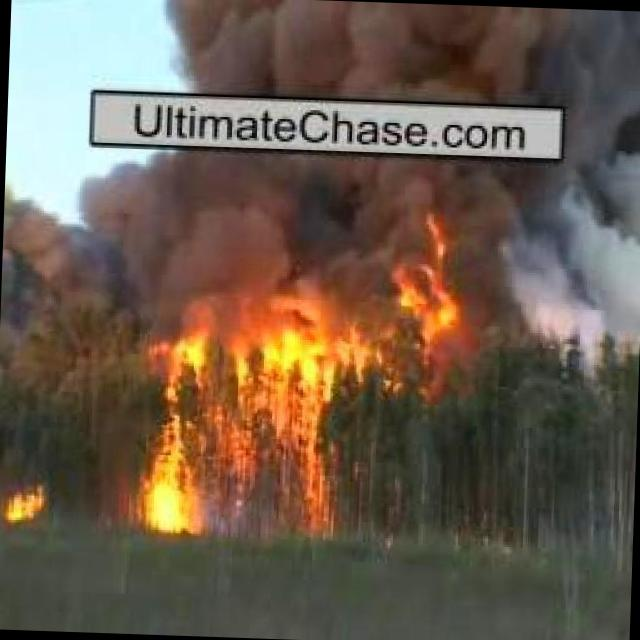Fire: (119, 343, 347, 558), (383, 234, 478, 354), (0, 482, 47, 524)
Smoke: (0, 136, 412, 312), (155, 0, 640, 112), (490, 155, 640, 343)
